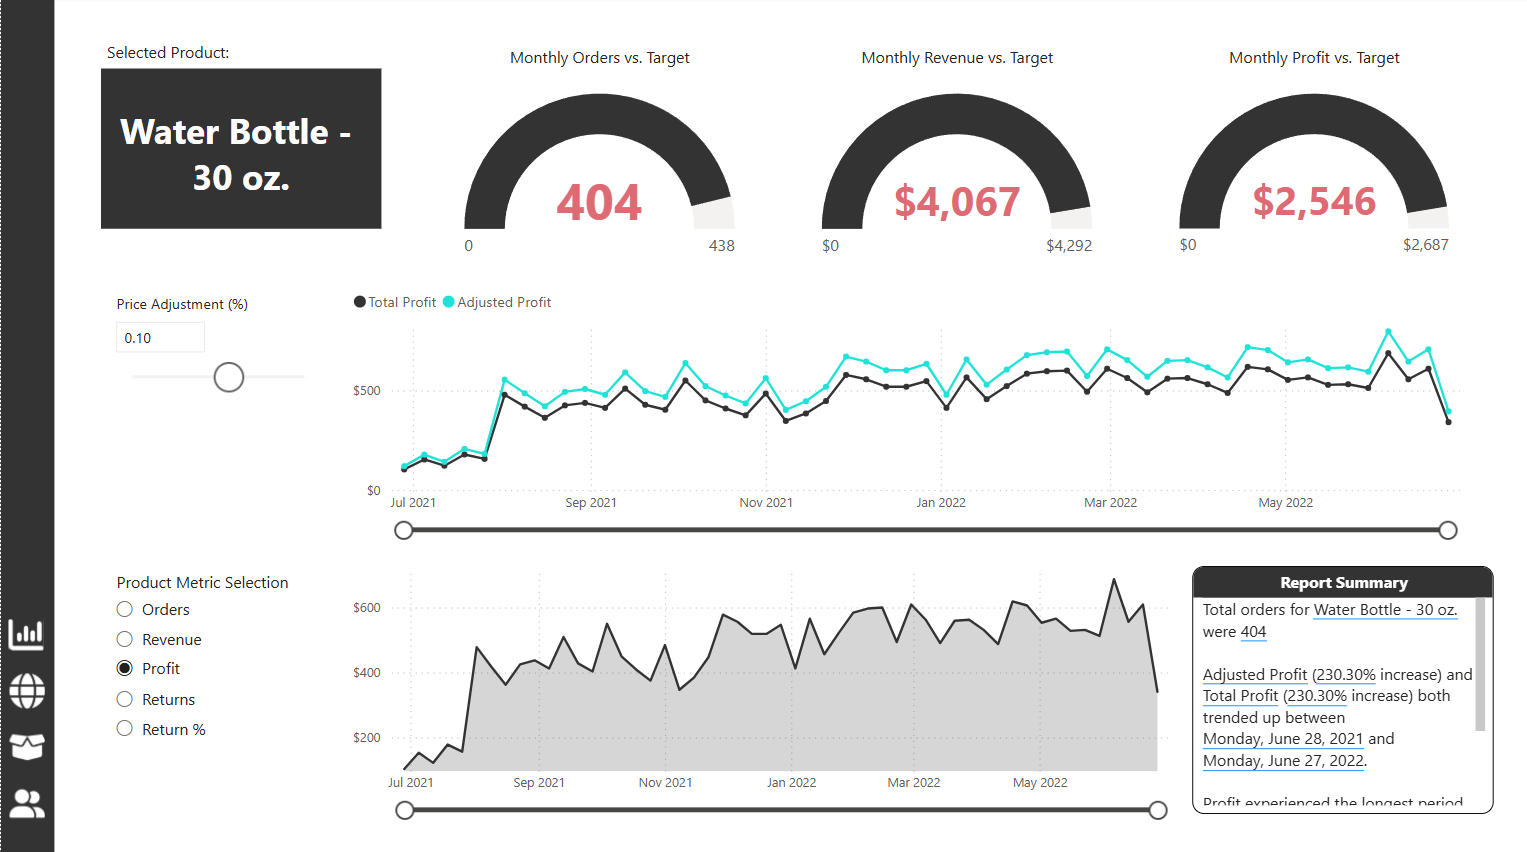

The page's visual inventory and layout, read from the dashboard file:
{"tool":"powerbi","page":{"name":"Product Detail","canvas":[1280,720],"ordinal":2},"visuals":[{"type":"shape","box":[0,0,45,720],"z":0},{"type":"actionButton","box":[2.5,516.7,45.6,37.8],"z":0,"group":"g1"},{"type":"gauge","title":"Monthly Orders vs. Target","fields":{"Y":["Measure Table.Total Orders"],"MaxValue":["Measure Table.Order Target"]},"box":[383.7,41.5,236.9,203.7],"z":1000},{"type":"actionButton","box":[3.3,563.4,45.6,37.8],"z":1000,"group":"g1"},{"type":"gauge","title":"Monthly Revenue vs. Target","fields":{"Y":["Measure Table.Total Revenue"],"MaxValue":["Measure Table.Revenue Target"]},"box":[683.5,41.5,236.9,203.7],"z":2000},{"type":"actionButton","box":[3.3,611.1,45.6,37.8],"z":2000,"group":"g1"},{"type":"gauge","title":"Monthly Profit vs. Target","fields":{"Y":["Measure Table.Total Profit"],"MaxValue":["Measure Table.Profit Target"]},"box":[983.4,41.8,236.2,203.5],"z":3000},{"type":"actionButton","box":[3.3,657.8,45.6,37.8],"z":3000,"group":"g1"},{"type":"lineChart","title":"Profit Trending","fields":{"Category":["Calendar Lookup.Date Hierarchy.Year","Calendar Lookup.Date Hierarchy.Start of Month","Calendar Lookup.Date Hierarchy.Start of Week","Calendar Lookup.Date Hierarchy.Date"],"Y":["Measure Table.Total Profit","Measure Table.Adjusted Profit"]},"box":[290.5,237.4,952.8,221.5],"z":4000},{"type":"areaChart","title":"Return Trending","fields":{"Y":["Measure Table.Total Profit"],"Category":["Calendar Lookup.Date Hierarchy.Year","Calendar Lookup.Date Hierarchy.Start of Month","Calendar Lookup.Date Hierarchy.Start of Week","Calendar Lookup.Date Hierarchy.Date"]},"box":[290.5,471.3,708.7,221.5],"z":5000},{"type":"card","fields":{"Values":["Min(Product Lookup.ProductName)"]},"box":[83.6,61,235.1,134.5],"z":6000},{"type":"textbox","box":[83.6,32.8,136.8,36.2],"z":7000},{"type":"group","id":"g1","title":"Navigation Buttons","box":[2.5,516.7,46.4,178.9],"z":8000},{"type":"slicer","fields":{"Values":["Price Adjustment (%).Price Adjustment (%)"]},"box":[83.6,245.3,193.3,123.2],"z":9000},{"type":"slicer","fields":{"Values":["Product Metric Selection.Product Metric Selection"]},"box":[83.6,477,193.3,180.8],"z":10000},{"type":"textbox","title":"Report Summary","box":[999.2,478.1,253.2,208],"z":11000}]}

Visuals, with their boxes on the page's 1280x720 design canvas (x1, y1, x2, y2). These are canvas units, not pixel positions in the 1527x852 screenshot, which may show the page scaled, cropped or inside an application window:
shape: 0 0 45 720
actionButton: 2 517 48 554
"Monthly Orders vs. Target" gauge: 384 42 621 245
actionButton: 3 563 49 601
"Monthly Revenue vs. Target" gauge: 684 42 920 245
actionButton: 3 611 49 649
"Monthly Profit vs. Target" gauge: 983 42 1220 245
actionButton: 3 658 49 696
"Profit Trending" lineChart: 290 237 1243 459
"Return Trending" areaChart: 290 471 999 693
card - Min(Product Lookup.ProductName): 84 61 319 196
textbox: 84 33 220 69
"Navigation Buttons" group: 2 517 49 696
slicer - Price Adjustment (%).Price Adjustment (%): 84 245 277 368
slicer - Product Metric Selection.Product Metric Selection: 84 477 277 658
"Report Summary" textbox: 999 478 1252 686
